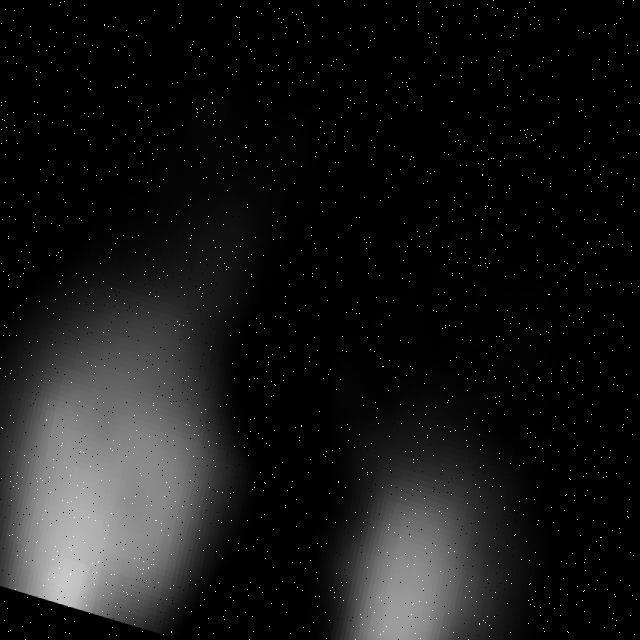person: (1, 26, 305, 640), (312, 324, 545, 640)
